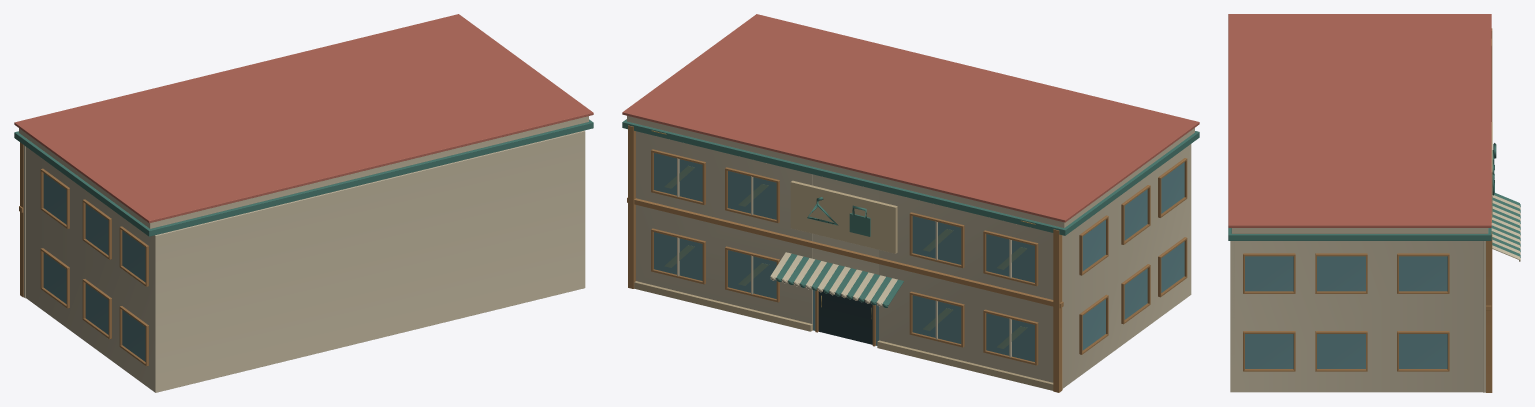
File: mall_exterior_low.glb
3 renders of one model, left to right at view 1: azimuth 30°, elevation 25°; view 2: azimuth 150°, elevation 25°; view 3: azimuth 270°, elevation 25°, orthographic. The views are drawn at different scales.
Bounding box in the file's own units: 24 × 9 × 14.
